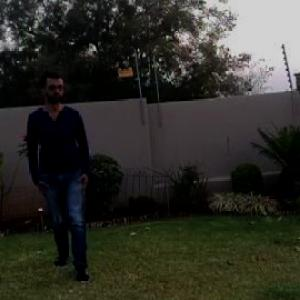follow: (29, 67, 94, 280)
